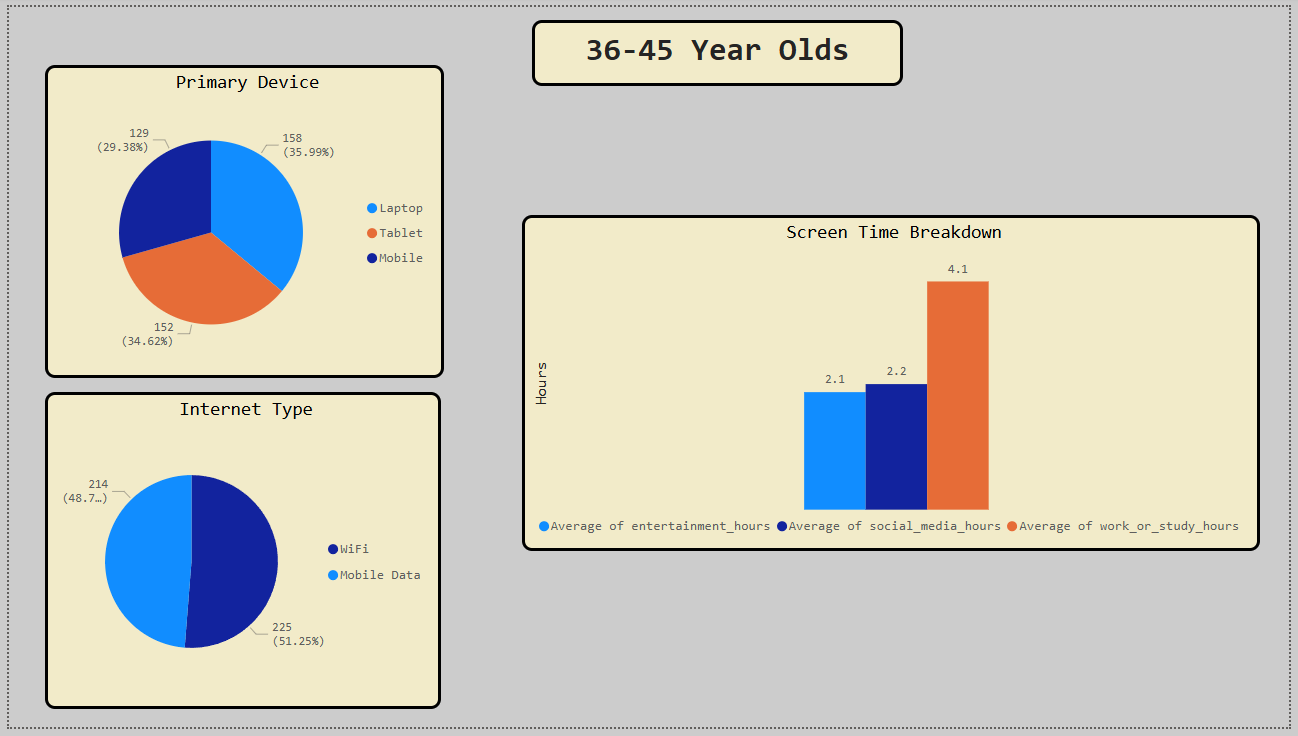

This screenshot's page, from the dashboard's own definition file:
{"tool":"powerbi","page":{"name":"36-45yr olds","canvas":[1280,720],"ordinal":4},"visuals":[{"type":"pieChart","title":"Primary Device","fields":{"Category":["daily_internet_usage_by_age_gro.primary_device"],"Y":["CountNonNull(daily_internet_usage_by_age_gro.primary_device)"]},"box":[36.1,57.7,398.8,313.3],"z":0},{"type":"pieChart","title":"Internet Type","fields":{"Category":["daily_internet_usage_by_age_gro.internet_type"],"Y":["CountNonNull(daily_internet_usage_by_age_gro.internet_type)"]},"box":[36.1,385.4,395.7,316.4],"z":1000},{"type":"clusteredColumnChart","title":"Screen Time Breakdown","fields":{"Y":["Avg(daily_internet_usage_by_age_gro.entertainment_hours)","Avg(daily_internet_usage_by_age_gro.social_media_hours)","Avg(daily_internet_usage_by_age_gro.work_or_study_hours)"]},"box":[513.2,208.2,737.9,336],"z":2000},{"type":"textbox","box":[522.5,13.4,371,66],"z":3000}]}

Visuals, with their boxes in screenshot pixels (x1, y1, x2, y2), scaled from the page's 1280x720 canvas onto the 1298x736 screenshot:
"Primary Device" pieChart: 37,59,441,379
"Internet Type" pieChart: 37,394,438,717
"Screen Time Breakdown" clusteredColumnChart: 520,213,1269,556
textbox: 530,14,906,81
